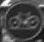bike lane: (3, 2, 39, 37)
